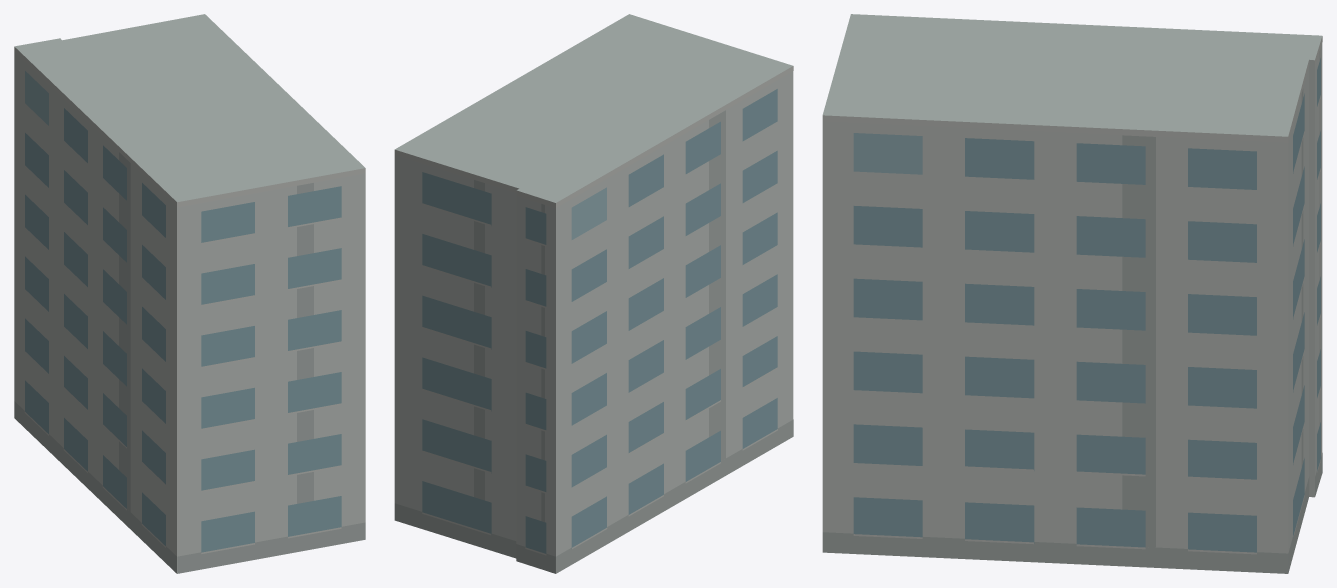
File: survey-upis-32872109.glb
3 renders of one model, left to right at view 1: azimuth 30°, elevation 25°; view 2: azimuth 150°, elevation 25°; view 3: azimuth 270°, elevation 25°, orthographic. The views are drawn at different scales.
Parts seen in each view (by area): view 1: survey-upis-32872109.tmp; view 2: survey-upis-32872109.tmp; view 3: survey-upis-32872109.tmp.
Boxes of the visible parts, x1=… form: survey-upis-32872109.tmp: x1=14, y1=14, x2=365, y2=573; survey-upis-32872109.tmp: x1=394, y1=14, x2=793, y2=573; survey-upis-32872109.tmp: x1=822, y1=14, x2=1322, y2=573.
Bounding box in the file's own units: 10.25 × 17 × 17.63.
